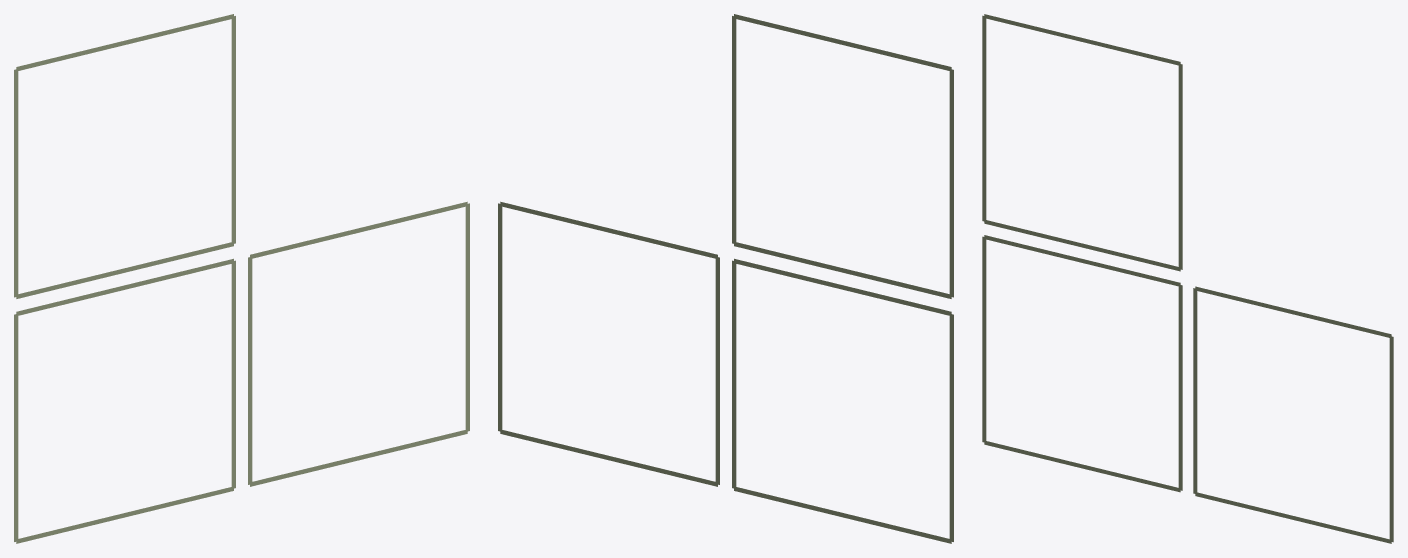
Rendered from edges.glb.
3 views of the same model, side by side, from view 1: azimuth 30°, elevation 25°; view 2: azimuth 150°, elevation 25°; view 3: azimuth 330°, elevation 25° (orthographic). The views are drawn at different scales.
Parts seen in each view (by area): view 1: pond-3-bank-3__walkway_ribbon, pond-1-bank-2__walkway_ribbon, pond-3-bank-2__walkway_ribbon, pond-2-bank-0__walkway_ribbon, pond-2-bank-1__walkway_ribbon, pond-2-bank-2__walkway_ribbon, pond-3-bank-1__walkway_ribbon, pond-1-bank-1__walkway_ribbon, pond-1-bank-3__walkway_ribbon, pond-1-bank-0__walkway_ribbon, pond-3-bank-0__walkway_ribbon, pond-2-bank-3__walkway_ribbon; view 2: pond-1-bank-2__walkway_ribbon, pond-3-bank-2__walkway_ribbon, pond-2-bank-0__walkway_ribbon, pond-2-bank-1__walkway_ribbon, pond-3-bank-1__walkway_ribbon, pond-1-bank-1__walkway_ribbon, pond-3-bank-3__walkway_ribbon, pond-1-bank-0__walkway_ribbon, pond-1-bank-3__walkway_ribbon, pond-2-bank-2__walkway_ribbon, pond-3-bank-0__walkway_ribbon, pond-2-bank-3__walkway_ribbon; view 3: pond-3-bank-1__walkway_ribbon, pond-3-bank-3__walkway_ribbon, pond-1-bank-3__walkway_ribbon, pond-1-bank-1__walkway_ribbon, pond-2-bank-3__walkway_ribbon, pond-2-bank-1__walkway_ribbon, pond-2-bank-0__walkway_ribbon, pond-2-bank-2__walkway_ribbon, pond-1-bank-0__walkway_ribbon, pond-3-bank-0__walkway_ribbon, pond-1-bank-2__walkway_ribbon, pond-3-bank-2__walkway_ribbon.
Boxes of the visible parts, bbox=[...] form: pond-3-bank-3__walkway_ribbon: bbox=[14, 69, 18, 297]; pond-1-bank-2__walkway_ribbon: bbox=[16, 258, 233, 316]; pond-3-bank-2__walkway_ribbon: bbox=[16, 14, 233, 71]; pond-2-bank-0__walkway_ribbon: bbox=[250, 429, 467, 486]; pond-2-bank-1__walkway_ribbon: bbox=[465, 203, 469, 431]; pond-2-bank-2__walkway_ribbon: bbox=[250, 201, 467, 259]; pond-3-bank-1__walkway_ribbon: bbox=[231, 16, 235, 243]; pond-1-bank-1__walkway_ribbon: bbox=[231, 260, 235, 488]; pond-1-bank-3__walkway_ribbon: bbox=[14, 314, 18, 541]; pond-1-bank-0__walkway_ribbon: bbox=[16, 486, 233, 543]; pond-3-bank-0__walkway_ribbon: bbox=[16, 242, 233, 298]; pond-2-bank-3__walkway_ribbon: bbox=[248, 257, 252, 484]; pond-1-bank-2__walkway_ribbon: bbox=[734, 258, 951, 316]; pond-3-bank-2__walkway_ribbon: bbox=[734, 14, 951, 71]; pond-2-bank-0__walkway_ribbon: bbox=[500, 429, 717, 486]; pond-2-bank-1__walkway_ribbon: bbox=[498, 203, 502, 431]; pond-3-bank-1__walkway_ribbon: bbox=[732, 16, 736, 243]; pond-1-bank-1__walkway_ribbon: bbox=[732, 260, 736, 488]; pond-3-bank-3__walkway_ribbon: bbox=[949, 69, 953, 297]; pond-1-bank-0__walkway_ribbon: bbox=[734, 486, 951, 543]; pond-1-bank-3__walkway_ribbon: bbox=[949, 314, 953, 541]; pond-2-bank-2__walkway_ribbon: bbox=[500, 201, 717, 259]; pond-3-bank-0__walkway_ribbon: bbox=[734, 242, 951, 298]; pond-2-bank-3__walkway_ribbon: bbox=[715, 257, 719, 484]; pond-3-bank-1__walkway_ribbon: bbox=[1178, 63, 1182, 269]; pond-3-bank-3__walkway_ribbon: bbox=[982, 15, 986, 221]; pond-1-bank-3__walkway_ribbon: bbox=[982, 236, 986, 442]; pond-1-bank-1__walkway_ribbon: bbox=[1178, 284, 1182, 490]; pond-2-bank-3__walkway_ribbon: bbox=[1193, 288, 1197, 493]; pond-2-bank-1__walkway_ribbon: bbox=[1389, 336, 1393, 542]; pond-2-bank-0__walkway_ribbon: bbox=[1195, 492, 1391, 543]; pond-2-bank-2__walkway_ribbon: bbox=[1195, 286, 1391, 338]; pond-1-bank-0__walkway_ribbon: bbox=[984, 440, 1180, 492]; pond-3-bank-0__walkway_ribbon: bbox=[984, 219, 1180, 271]; pond-1-bank-2__walkway_ribbon: bbox=[984, 235, 1180, 286]; pond-3-bank-2__walkway_ribbon: bbox=[984, 14, 1180, 65].
Bounding box in the file's own units: 83.8 × 83.8 × 0.
